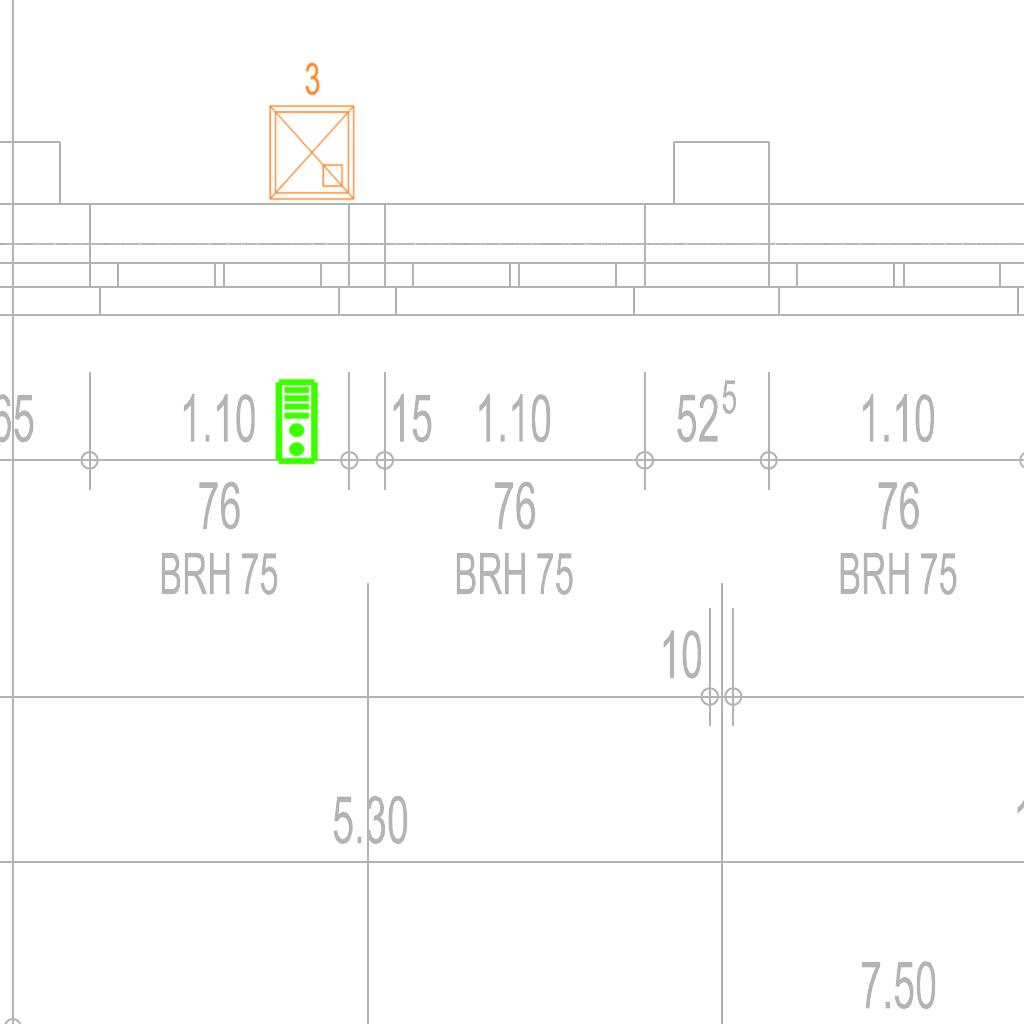Einbaudownlights_LED_Konferenzraeume: (258, 57, 362, 207)
Gegensprechanlage_mit_Video: (274, 378, 321, 466)
